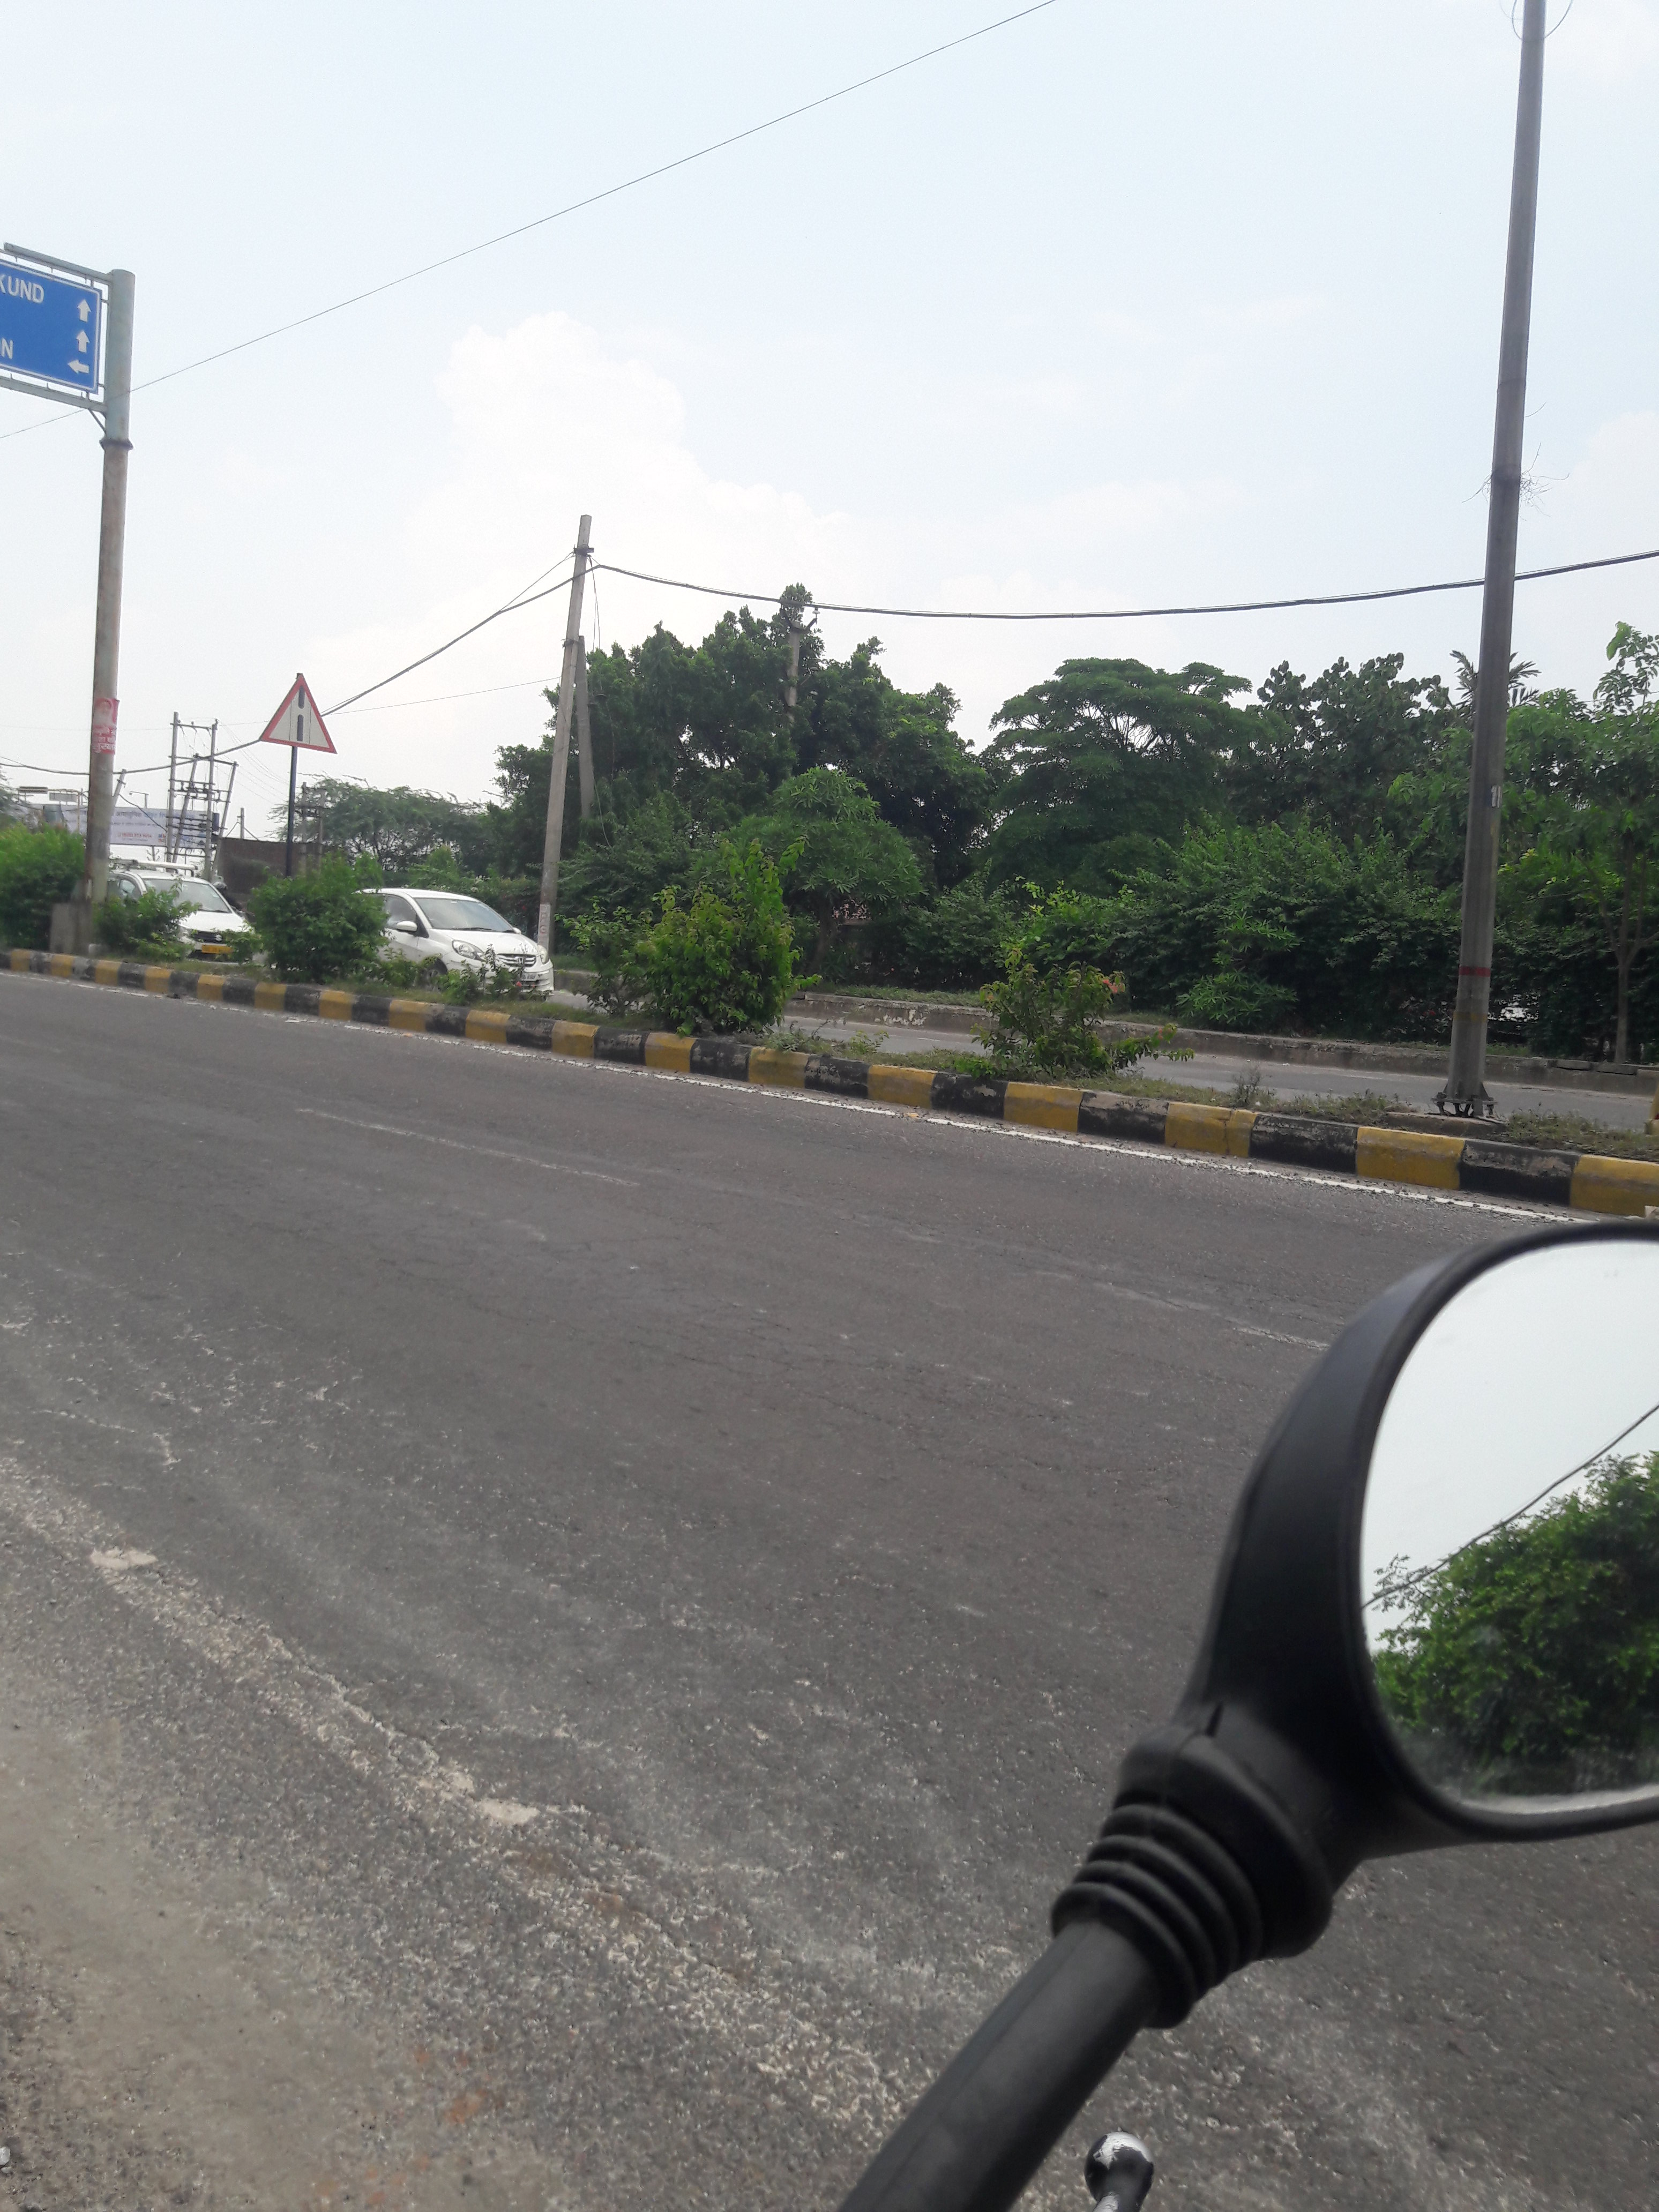traffic_sign: (256, 672, 338, 756)
